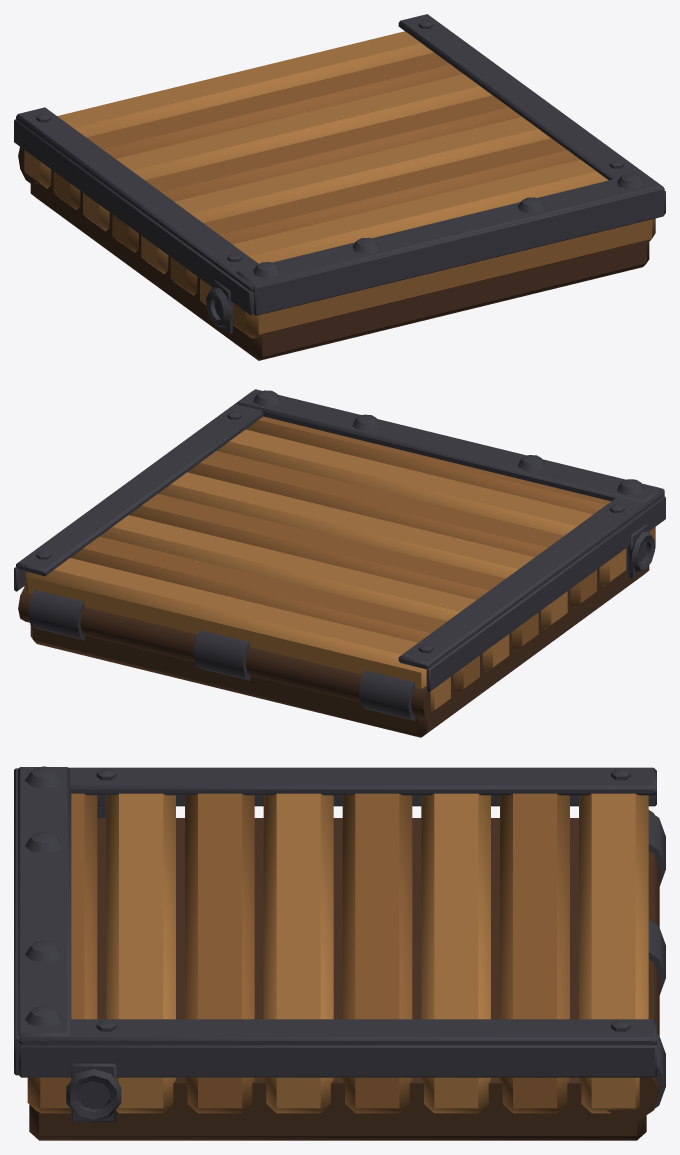
Rendered from drawbridge_deck.glb.
The picture shows the model from 3 angles, top to bottom: view 1: azimuth 30°, elevation 25°; view 2: azimuth 150°, elevation 25°; view 3: azimuth 270°, elevation 25°; orthographic projection. The views are drawn at different scales.
Parts seen in each view (by area): view 1: body; view 2: body; view 3: body.
Part boxes in pixels (bbox=[...]): body: bbox=[14, 14, 665, 360]; body: bbox=[14, 389, 665, 737]; body: bbox=[14, 766, 665, 1140].
Bounding box in the file's own units: 1.04 × 0.216 × 1.01.
